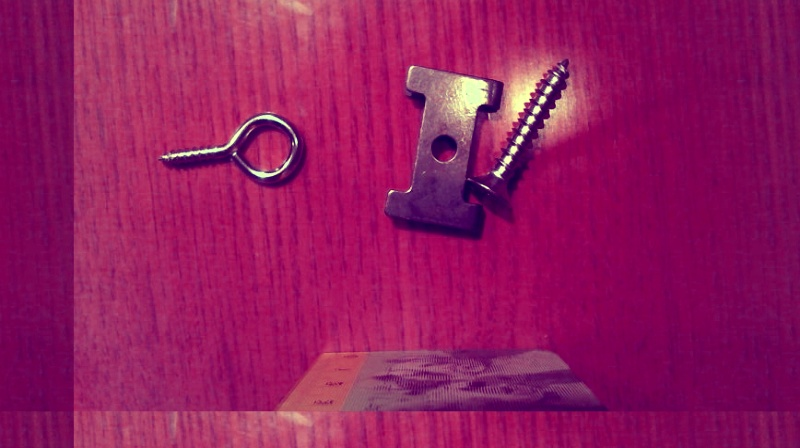O001: (150, 110, 308, 189)
O002: (384, 63, 506, 239)
S001: (464, 56, 572, 216)
